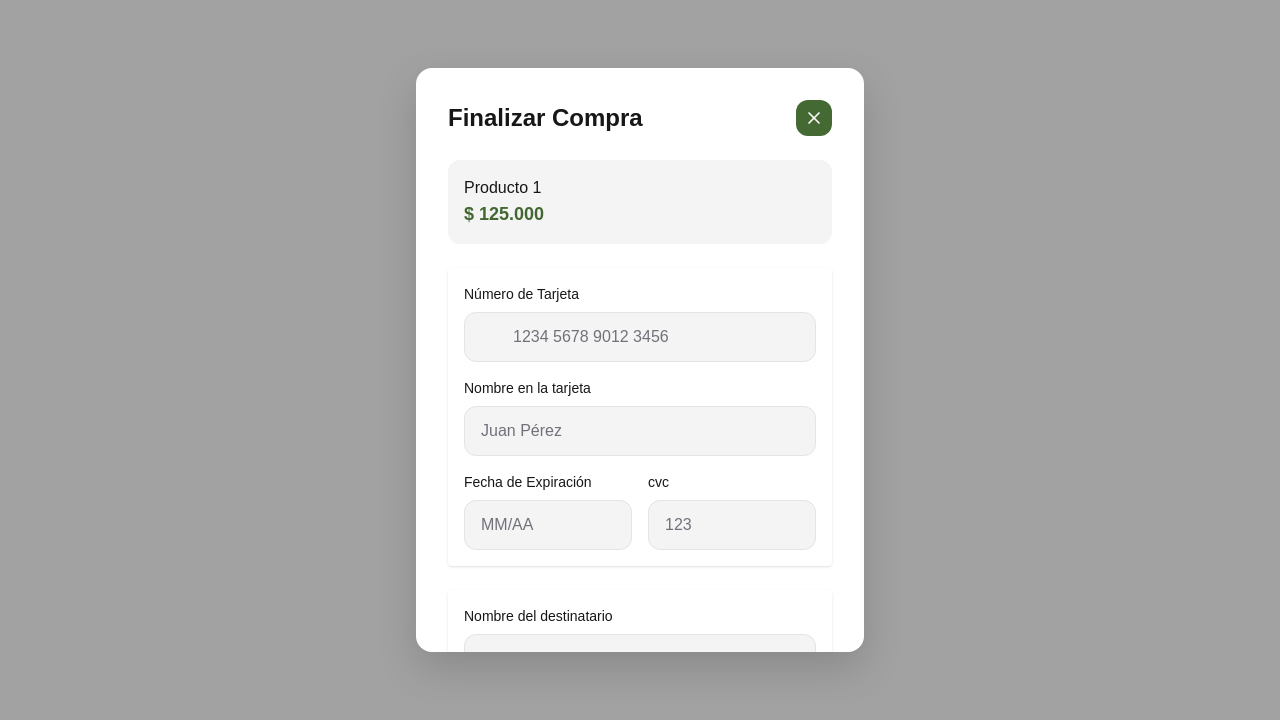
Scenario: Validation checkout modal › formats card number and expiry date
This screenshot has width=1280, height=720.
Type "4242424242424242" into the field with placeholder "1234 5678 9012 3456" at (640, 337), box [464, 312, 816, 362]
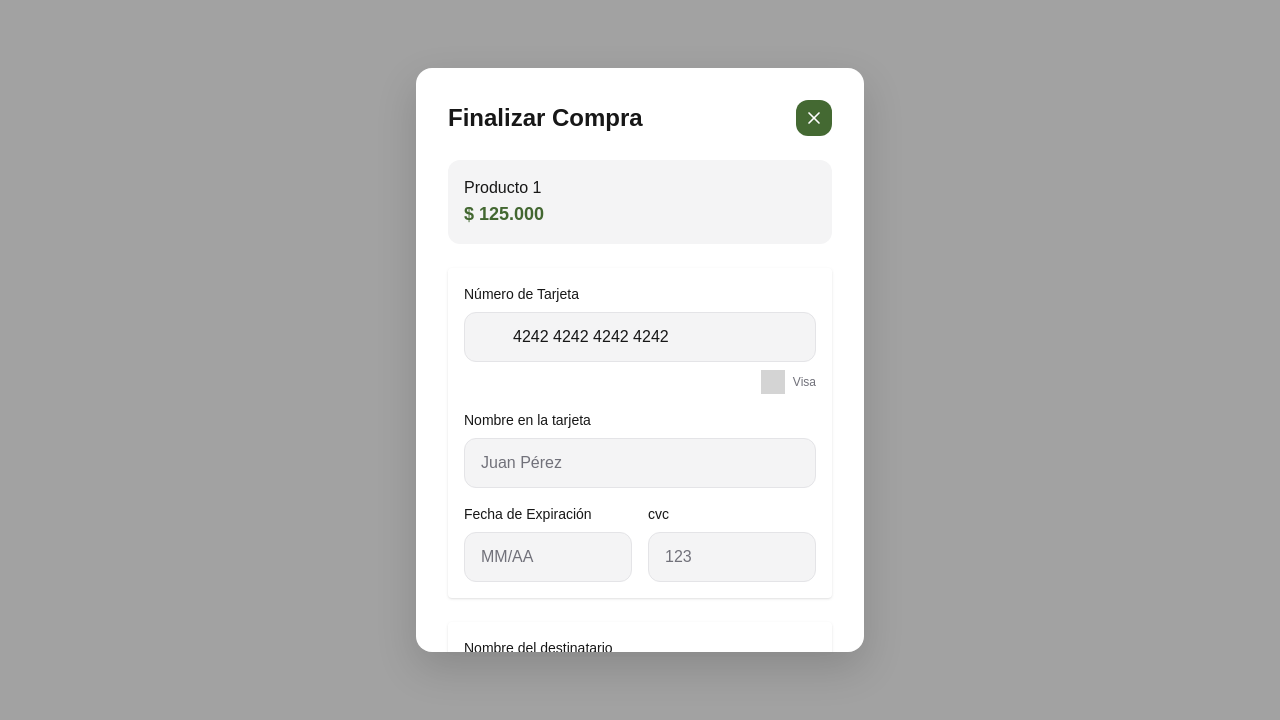
Result: the field with placeholder "1234 5678 9012 3456" holds "4242 4242 4242 4242" at [464, 312, 816, 362]
Type "1228" into the field with placeholder "MM/AA" at (548, 557), box [464, 532, 632, 582]
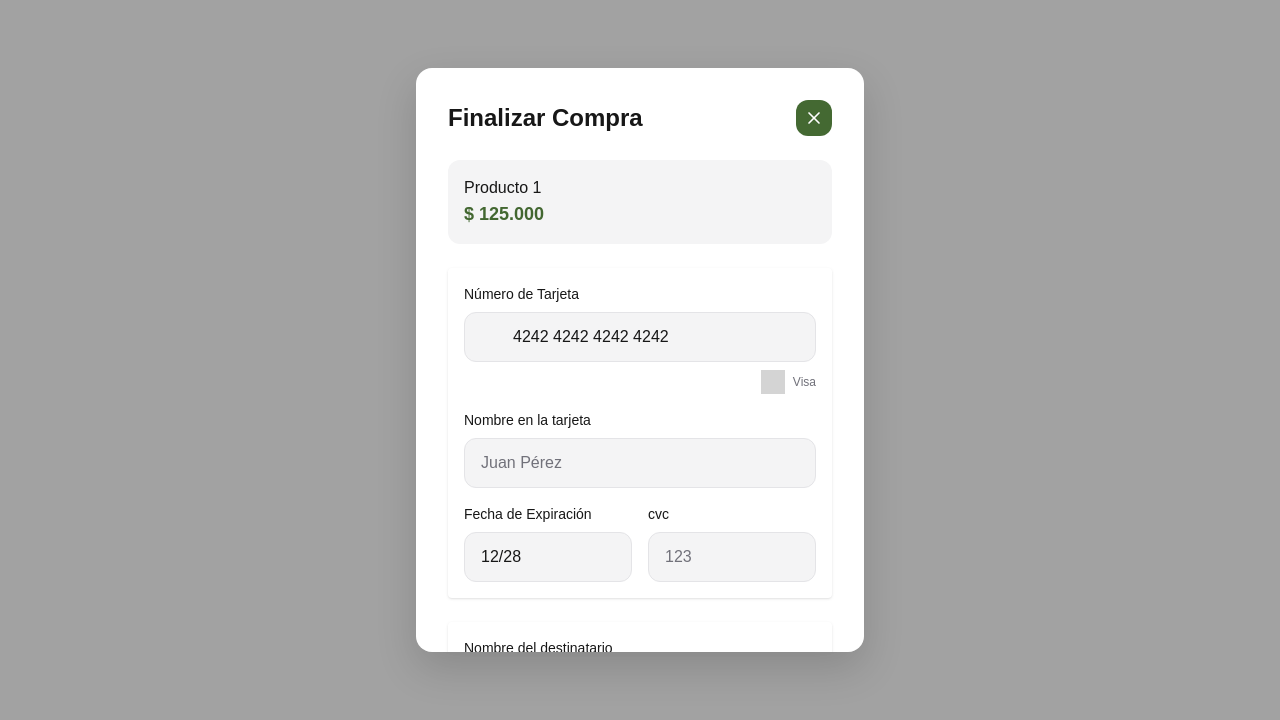
Result: the field with placeholder "MM/AA" below "Fecha de Expiración" holds "12/28" at [464, 532, 632, 582]
